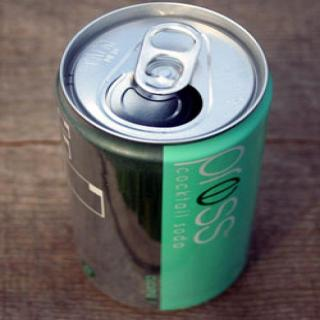Anorganik: (53, 0, 270, 314)
